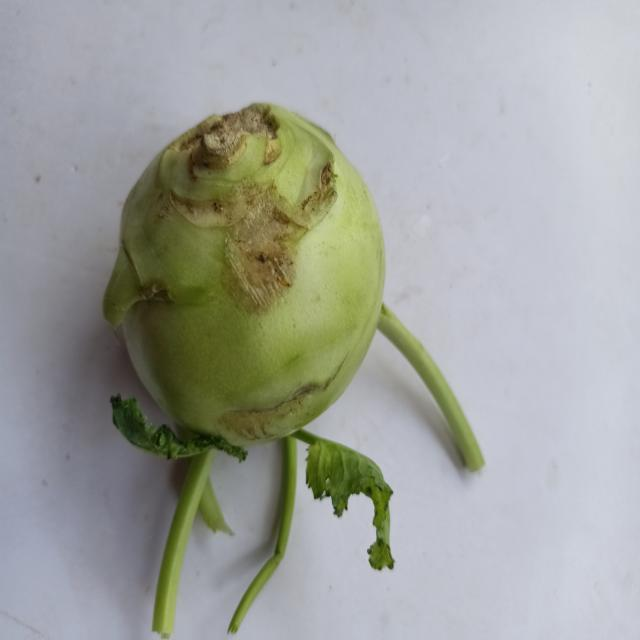Turnip: (96, 84, 514, 640)
